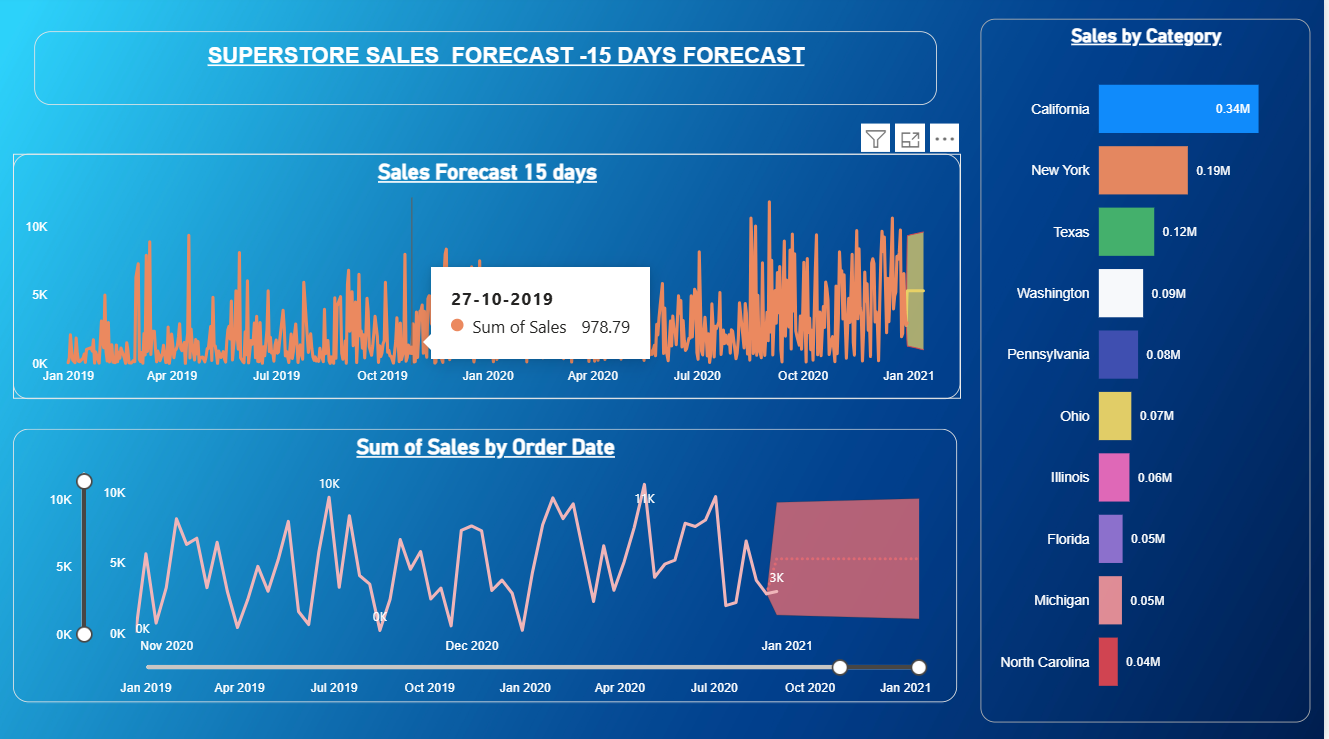

The page's visual inventory and layout, read from the dashboard file:
{"tool":"powerbi","page":{"name":"Page 2","canvas":[1280,720],"ordinal":1},"visuals":[{"type":"lineChart","title":"Sales Forecast 15 days ","fields":{"Y":["Sum(SuperStore_Sales_Dataset.Sales)"],"Category":["SuperStore_Sales_Dataset.Order Date"]},"box":[14.5,153.2,914.5,236.5],"z":0},{"type":"clusteredBarChart","title":"Sales by Category","fields":{"Category":["SuperStore_Sales_Dataset.State"],"Y":["Sum(SuperStore_Sales_Dataset.Sales)"]},"box":[948.3,22.9,318.5,679.2],"z":1000},{"type":"lineChart","fields":{"Y":["Sum(SuperStore_Sales_Dataset.Sales)"],"Category":["SuperStore_Sales_Dataset.Order Date"]},"box":[14.5,418.6,910.9,264.2],"z":1001},{"type":"textbox","box":[35,35,871.1,71.2],"z":1002}]}

Visuals, with their boxes in screenshot pixels (x1, y1, x2, y2), scaled from the page's 1280x720 canvas onto the 1329x739 screenshot:
"Sales Forecast 15 days " lineChart: 15/157/965/400
"Sales by Category" clusteredBarChart: 985/24/1315/721
lineChart - Sum(SuperStore_Sales_Dataset.Sales) x SuperStore_Sales_Dataset.Order Date: 15/430/961/701
textbox: 36/36/941/109
